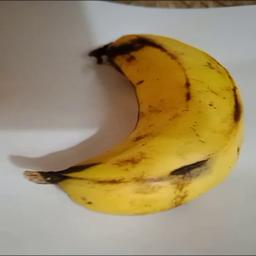Banana Semifresh: (28, 33, 247, 216)
